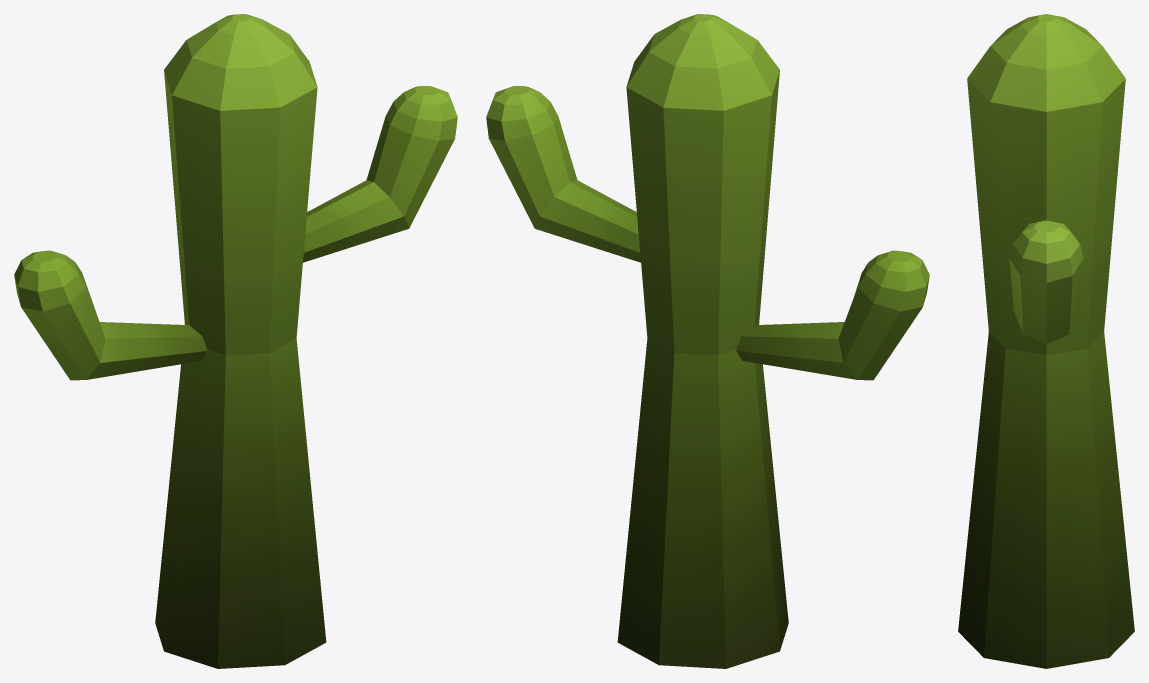
Rendered from petit_cactus.fbx.
3 renders of one model, left to right at view 1: azimuth 30°, elevation 25°; view 2: azimuth 150°, elevation 25°; view 3: azimuth 270°, elevation 25°, orthographic.
Parts seen in each view (by area): view 1: Cactus.001; view 2: Cactus.001; view 3: Cactus.001.
Part boxes in pixels (bbox=[...]): Cactus.001: bbox=[14, 14, 457, 668]; Cactus.001: bbox=[486, 14, 929, 668]; Cactus.001: bbox=[958, 14, 1134, 668].
Bounding box in the file's own units: 208 × 281 × 73.27.
